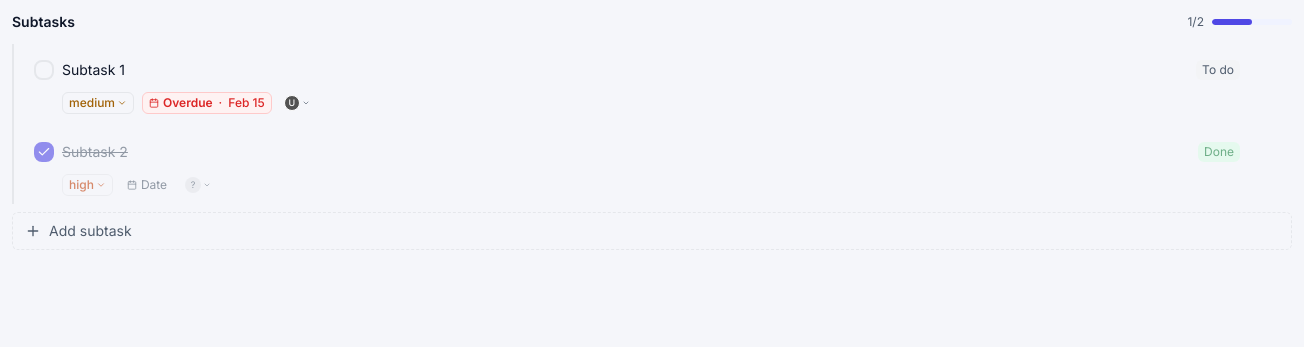
Test: SubtaskList › opens add subtask form when clicking add button
The width and height of the screenshot is (1304, 347).
// Click "Add subtask" button
Click the button "Add subtask".
click(90, 230)  # box [12, 212, 1292, 250]
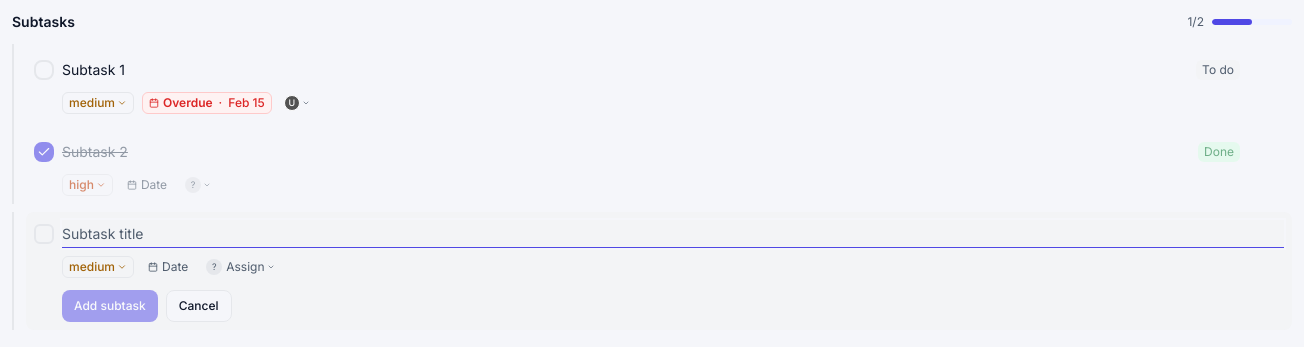
Result: the field with placeholder "Subtask title" is shown at [62, 220, 1284, 248]
Result: the button "Cancel" is shown at [166, 290, 232, 322]
